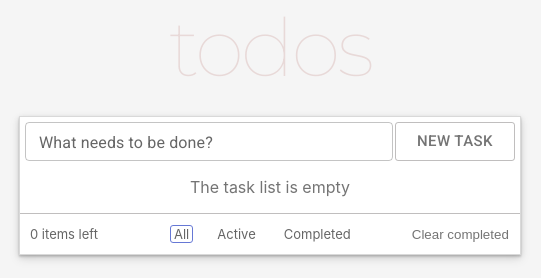
Test: Clear completed task › completed task should be deleted
In the field with test id "input": (209, 142) [25,122,393,161], type "test"
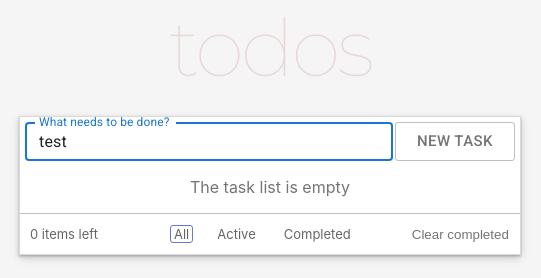
Click the button with test id "new-task": (455, 142) [395,122,515,161]
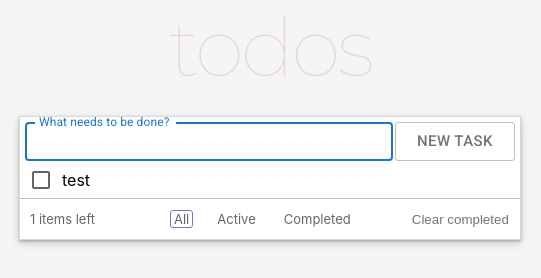
Click the checkbox named "The task has changed": (41, 180) [29,168,53,192]
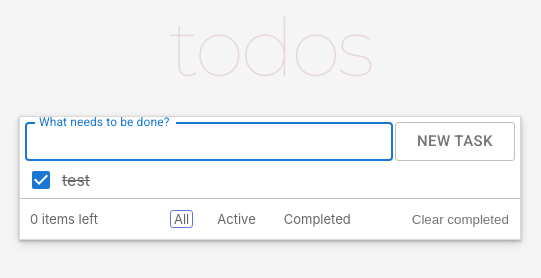
Check: the text "test" is shown, box [62,170,90,190]
Click the button with test id "clear-completed": (460, 219) [412,212,509,226]
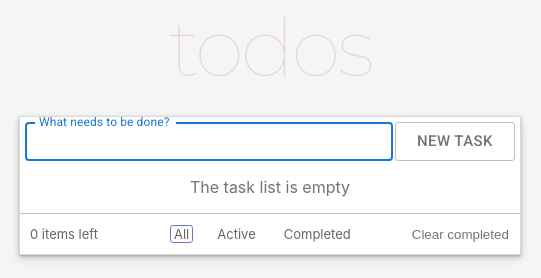
Check: the text with test id "new-text" is gone
